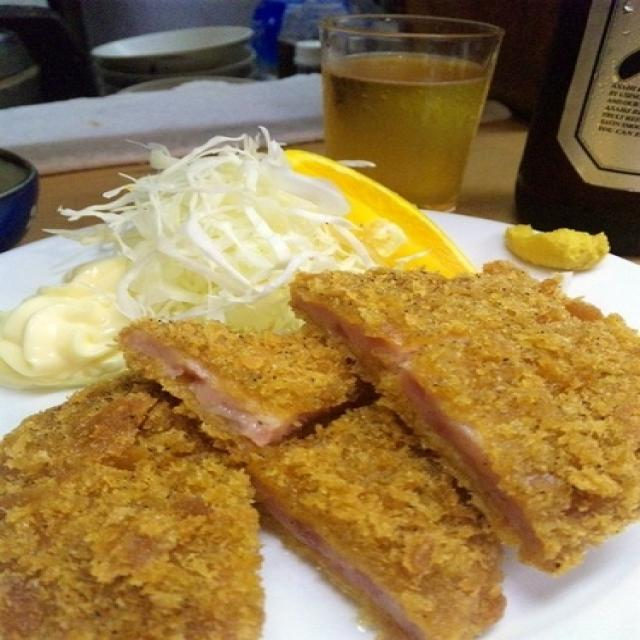炸货点心: (5, 133, 635, 634)
